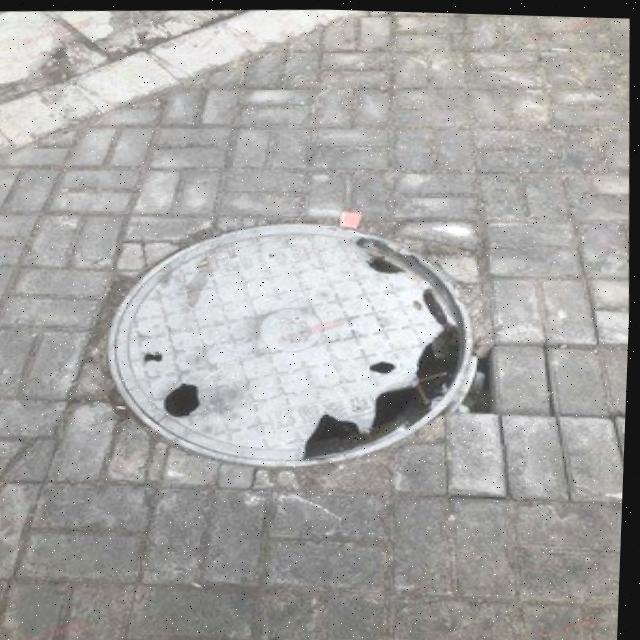manhole: (74, 197, 521, 487)
